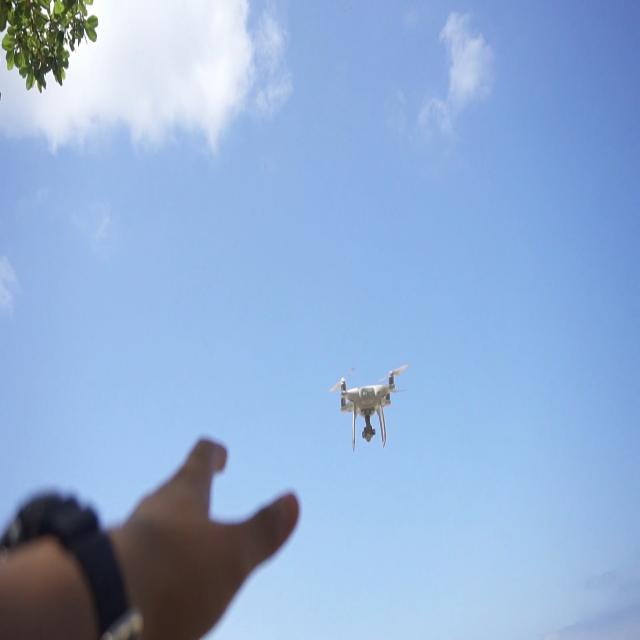Drone: (334, 363, 402, 449)
